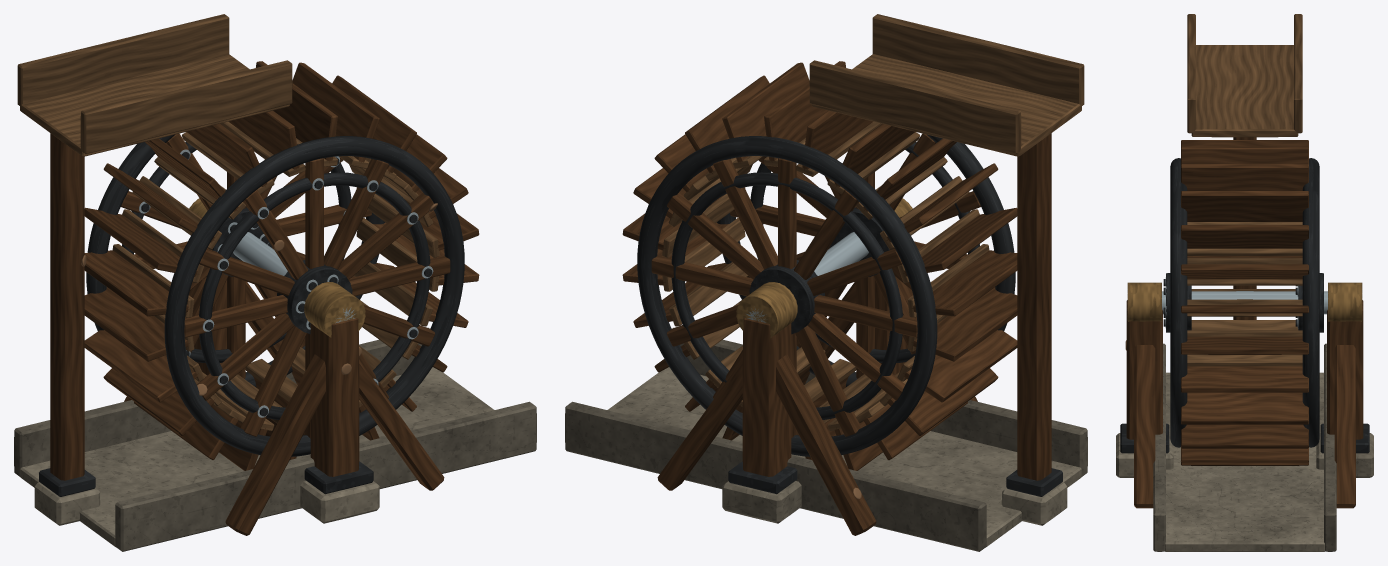
3 renders of one model, left to right at view 1: azimuth 30°, elevation 25°; view 2: azimuth 150°, elevation 25°; view 3: azimuth 270°, elevation 25°, orthographic. The views are drawn at different scales.
Parts seen in each view (by area): view 1: quarter-sawn-timber (×2), exposed-end-grain (×2), blackened-forged-iron (×2), fieldstone-ashlar, dressed-fieldstone-edges, machined-bearing-steel (×2), aged-bronze; view 2: quarter-sawn-timber (×2), exposed-end-grain (×2), blackened-forged-iron (×2), fieldstone-ashlar, dressed-fieldstone-edges, aged-bronze, machined-bearing-steel; view 3: quarter-sawn-timber (×2), exposed-end-grain (×2), dressed-fieldstone-edges, blackened-forged-iron (×2), fieldstone-ashlar, aged-bronze, machined-bearing-steel.
Boxes of the visible parts, x1,y1,x2,y2 form: quarter-sawn-timber (×2): [50, 61, 479, 535]; exposed-end-grain (×2): [17, 14, 439, 431]; blackened-forged-iron (×2): [39, 134, 464, 496]; fieldstone-ashlar: [14, 327, 536, 551]; dressed-fieldstone-edges: [20, 367, 494, 546]; machined-bearing-steel (×2): [139, 149, 433, 417]; aged-bronze: [189, 198, 365, 337]; quarter-sawn-timber (×2): [622, 61, 1051, 535]; exposed-end-grain (×2): [662, 14, 1084, 431]; blackened-forged-iron (×2): [637, 134, 1062, 496]; fieldstone-ashlar: [565, 327, 1087, 551]; dressed-fieldstone-edges: [607, 367, 1081, 546]; aged-bronze: [736, 198, 912, 337]; machined-bearing-steel: [746, 232, 868, 322]; quarter-sawn-timber (×2): [1126, 137, 1363, 508]; exposed-end-grain (×2): [1187, 14, 1302, 366]; dressed-fieldstone-edges: [1116, 372, 1373, 551]; blackened-forged-iron (×2): [1120, 158, 1369, 453]; fieldstone-ashlar: [1153, 343, 1336, 551]; aged-bronze: [1127, 282, 1362, 321]; machined-bearing-steel: [1162, 291, 1327, 314].
Size of the model in its own units: 2 by 1.89 by 1.21.
Materials: 9 (7 with a texture image).
